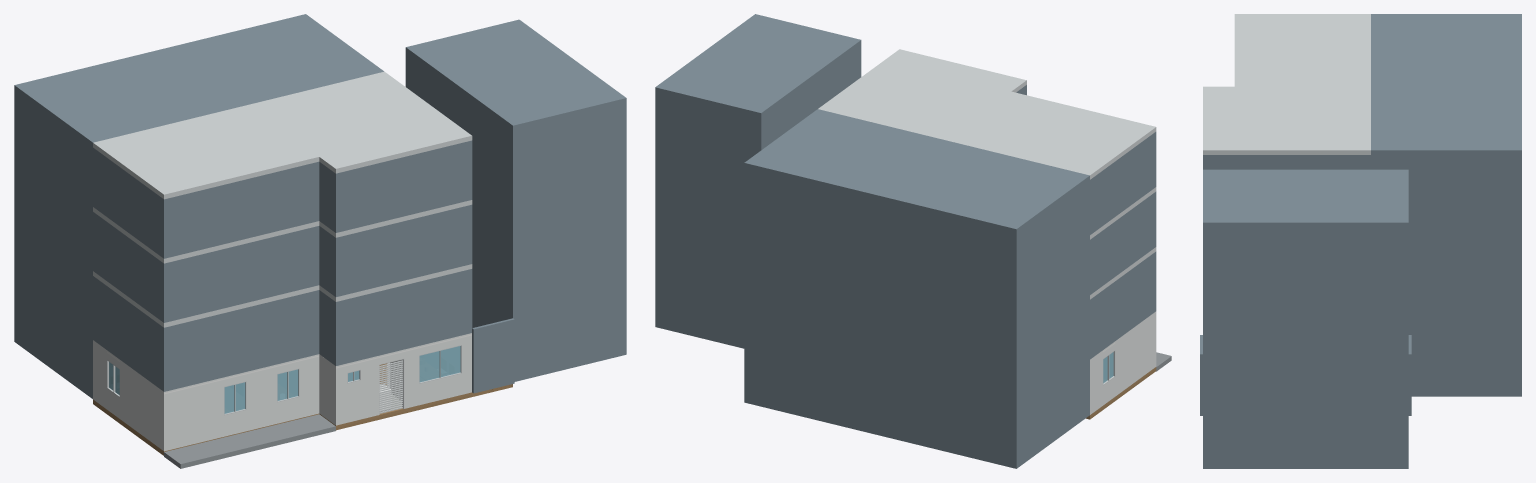
File: departamento-t7-web.glb
The picture shows the model from 3 angles, left to right: view 1: azimuth 30°, elevation 25°; view 2: azimuth 150°, elevation 25°; view 3: azimuth 270°, elevation 25°; orthographic projection. The views are drawn at different scales.
Visible parts, largest first — view 1: NeighbourEast, NeighbourNorth, UpperSlab4, UpperT6Mass4, UpperT6Mass2, UpperT6Mass3, ProvisionalTerrace, W05A, W03, CorridorEndSouth, UpperSlab2, UpperSlab3 (+10 smaller); view 2: NeighbourNorth, NeighbourEast, UpperSlab4, UpperT6Mass4, UpperT6Mass2, UpperT6Mass3, W03, W02; view 3: NeighbourEast, NeighbourNorth, UpperSlab4, UpperT6Mass4.
Boxes of the visible parts, <box> form: NeighbourEast: <box>405,19,626,381</box>; NeighbourNorth: <box>14,14,383,398</box>; UpperSlab4: <box>93,71,472,199</box>; UpperT6Mass4: <box>93,140,472,258</box>; UpperT6Mass2: <box>93,269,472,386</box>; UpperT6Mass3: <box>93,204,472,322</box>; ProvisionalTerrace: <box>164,414,335,468</box>; W05A: <box>167,377,223,450</box>; W03: <box>120,360,167,451</box>; CorridorEndSouth: <box>472,318,514,393</box>; UpperSlab2: <box>93,264,472,327</box>; UpperSlab3: <box>93,200,472,263</box>; NeighbourNorth: <box>744,109,1089,468</box>; NeighbourEast: <box>655,14,861,348</box>; UpperSlab4: <box>818,49,1156,179</box>; UpperT6Mass4: <box>1016,85,1156,234</box>; UpperT6Mass2: <box>1090,251,1156,354</box>; UpperT6Mass3: <box>1090,191,1156,294</box>; W03: <box>1115,311,1156,396</box>; W02: <box>1091,350,1102,413</box>; NeighbourEast: <box>1203,169,1408,468</box>; NeighbourNorth: <box>1371,14,1521,396</box>; UpperSlab4: <box>1203,14,1370,154</box>; UpperT6Mass4: <box>1203,155,1370,169</box>.
Bounding box in the file's own units: 19.64 × 11.03 × 12.8.
Materials: 29 (3 with a texture image).
